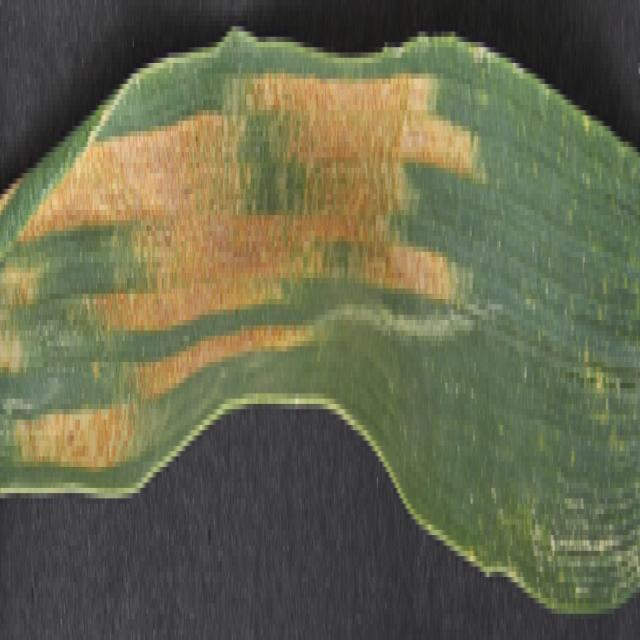leaf rust: (4, 37, 468, 498)
